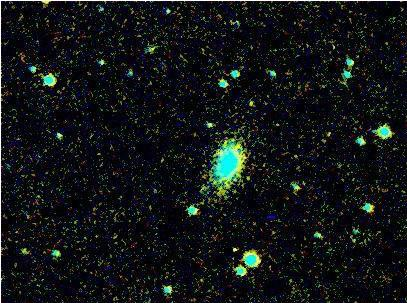star: (223, 235, 253, 265)
